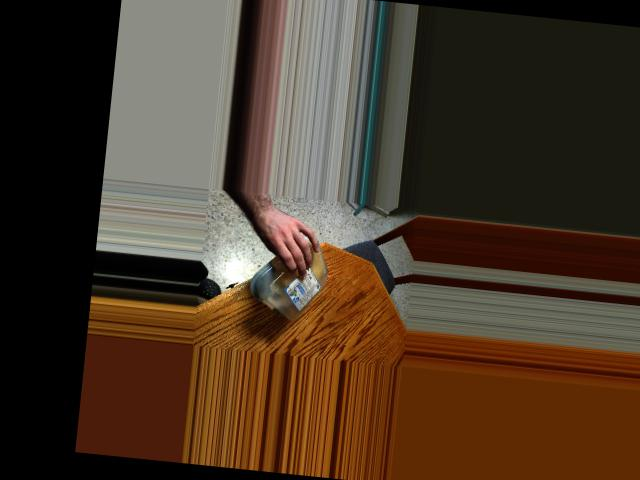cheese: (249, 224, 332, 322)
